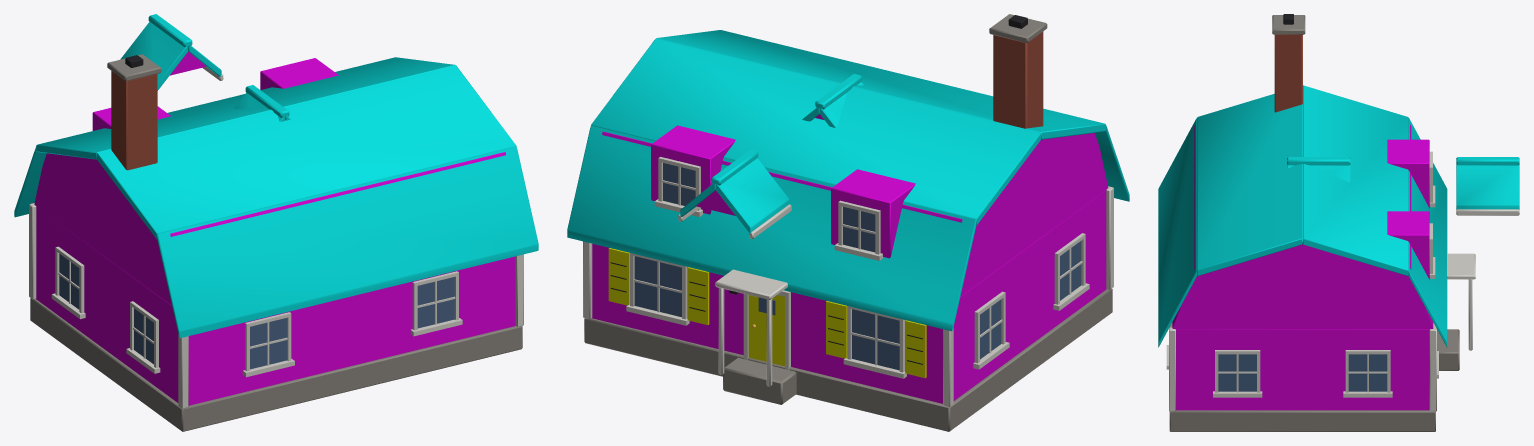
File: House_Gambrel.fbx
3 renders of one model, left to right at view 1: azimuth 30°, elevation 25°; view 2: azimuth 150°, elevation 25°; view 3: azimuth 270°, elevation 25°, orthographic. The views are drawn at different scales.
Visible parts, largest first — view 1: House_Gambrel; view 2: House_Gambrel; view 3: House_Gambrel.
Boxes of the visible parts, box(x1,y1,x2,y2) form: House_Gambrel: box(14, 14, 538, 431); House_Gambrel: box(567, 14, 1129, 431); House_Gambrel: box(1158, 14, 1519, 431).
Bounding box in the file's own units: 10.3 × 8.74 × 10.25.
